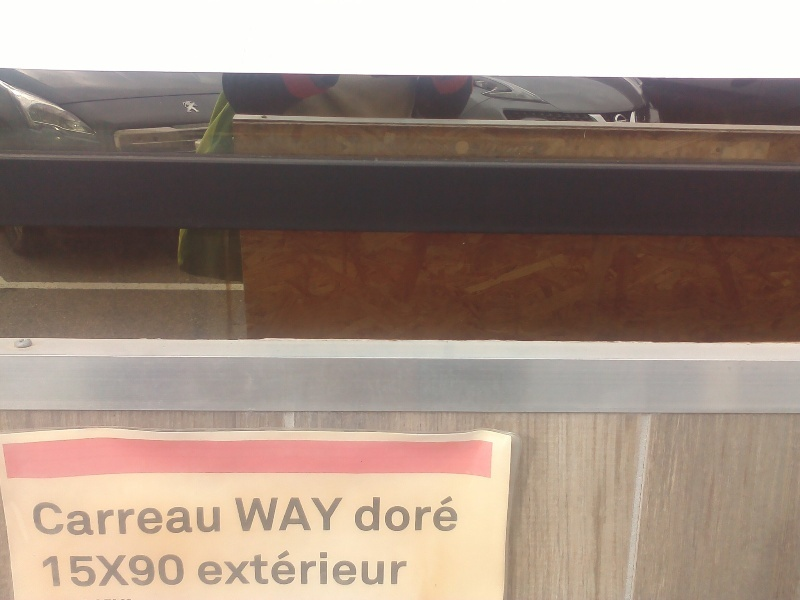text: (369, 496, 384, 532), (385, 496, 400, 532), (401, 496, 416, 532), (417, 496, 432, 532), (433, 496, 448, 532), (33, 502, 48, 536), (49, 502, 64, 536), (65, 502, 80, 536), (81, 502, 96, 536), (97, 502, 112, 536), (113, 502, 128, 536), (129, 502, 144, 536), (145, 502, 160, 536), (161, 502, 176, 536), (177, 502, 192, 536), (193, 502, 208, 536), (241, 497, 256, 531), (257, 497, 272, 531), (273, 497, 288, 531), (289, 497, 304, 531), (305, 497, 320, 531), (321, 497, 336, 531), (49, 554, 64, 588), (65, 554, 80, 588), (81, 554, 96, 588), (97, 554, 112, 588), (113, 554, 128, 588), (129, 554, 144, 588), (145, 554, 160, 588), (161, 554, 176, 588), (209, 551, 224, 585), (225, 551, 240, 585), (241, 551, 256, 585), (257, 551, 272, 585), (273, 551, 288, 585), (289, 551, 304, 585), (305, 551, 320, 585), (321, 551, 336, 585), (337, 551, 352, 585), (353, 551, 368, 585), (369, 551, 384, 585), (385, 551, 400, 585), (355, 496, 368, 532), (209, 502, 221, 536), (449, 496, 458, 532), (177, 554, 186, 588), (199, 551, 208, 585), (401, 551, 409, 585), (337, 497, 344, 531), (41, 554, 48, 588), (235, 497, 240, 531)
